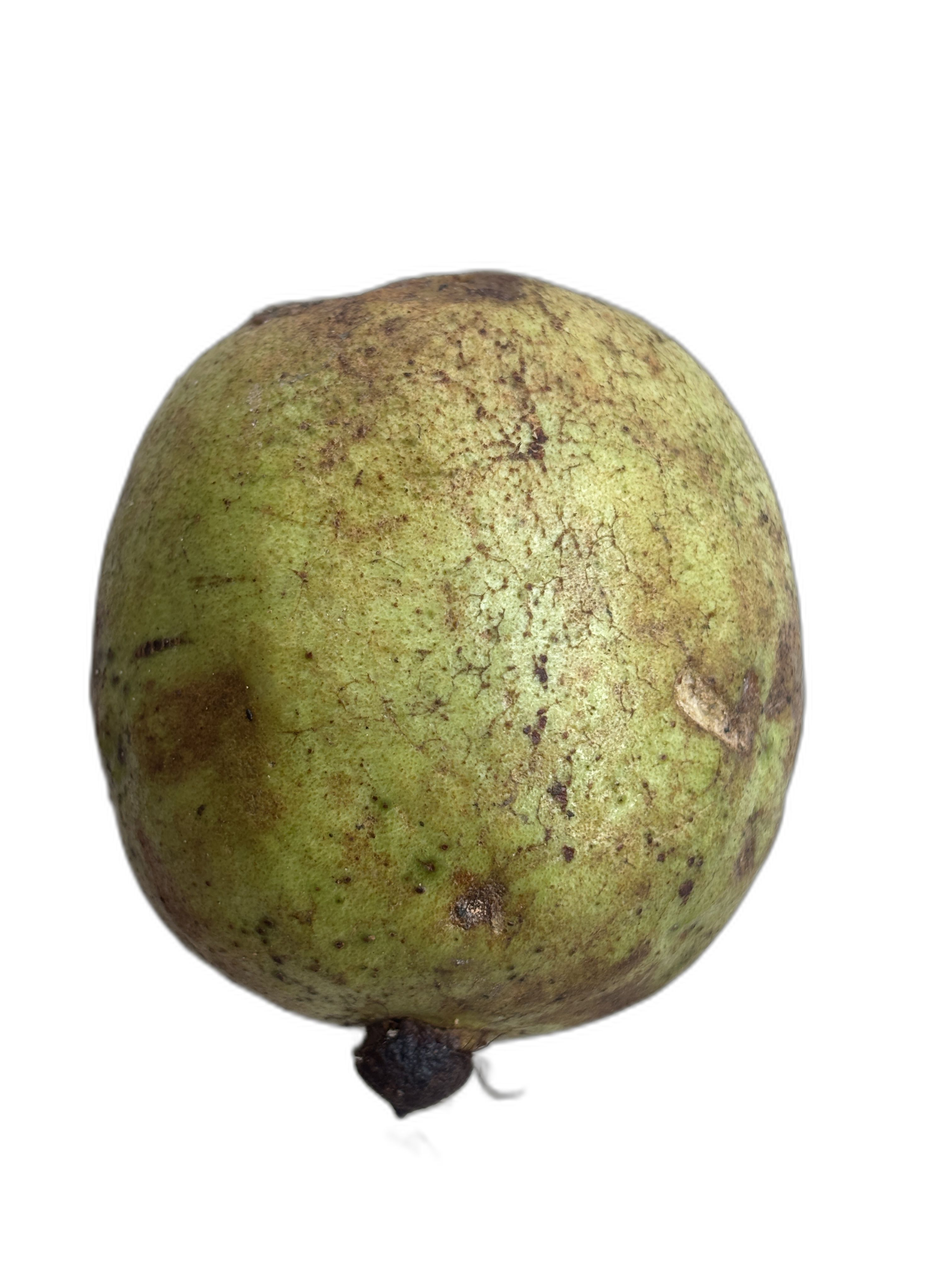guava: (76, 124, 814, 1025)
